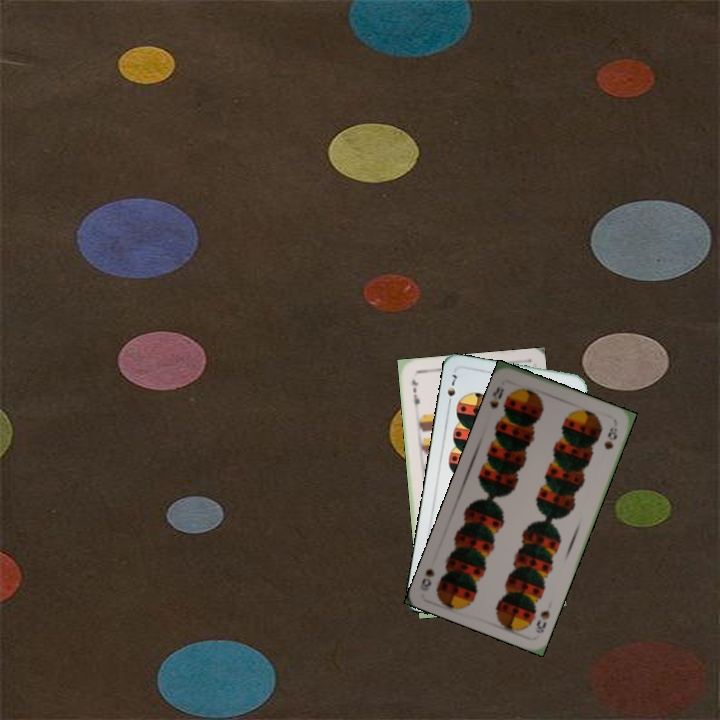E7: (408, 375, 422, 413)
S7: (443, 370, 459, 409)
S8: (530, 605, 552, 636), (485, 383, 506, 412)
